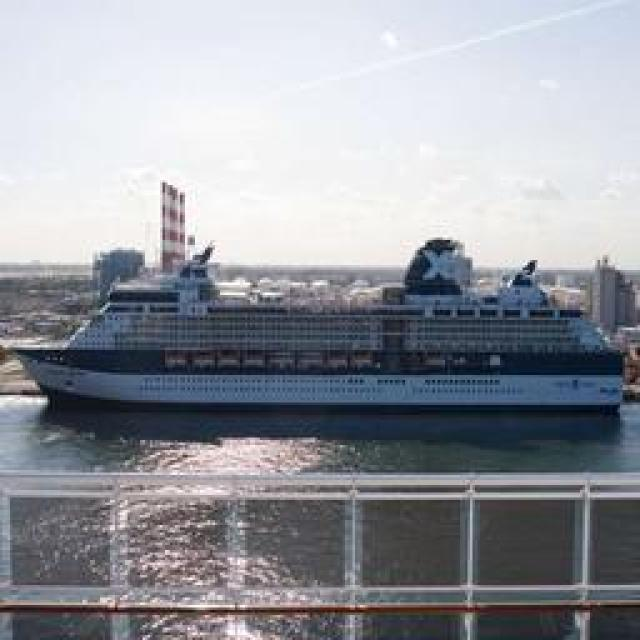CIV_Ship: (11, 245, 631, 423)
